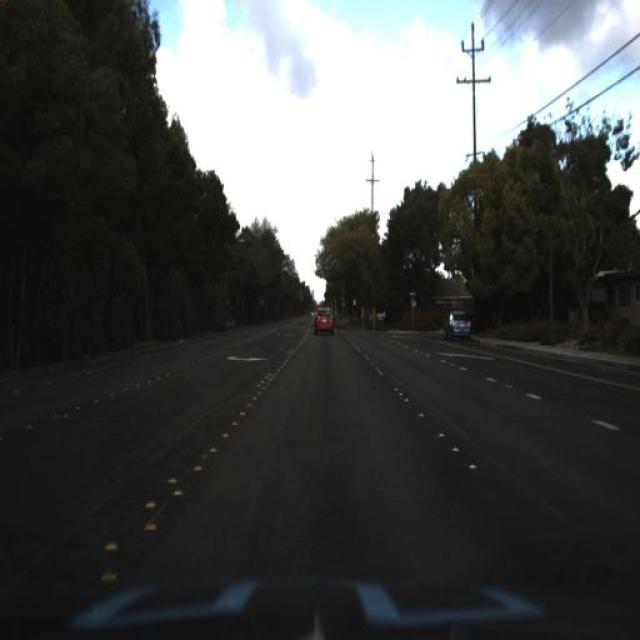car: (308, 300, 336, 346), (441, 306, 473, 346)
